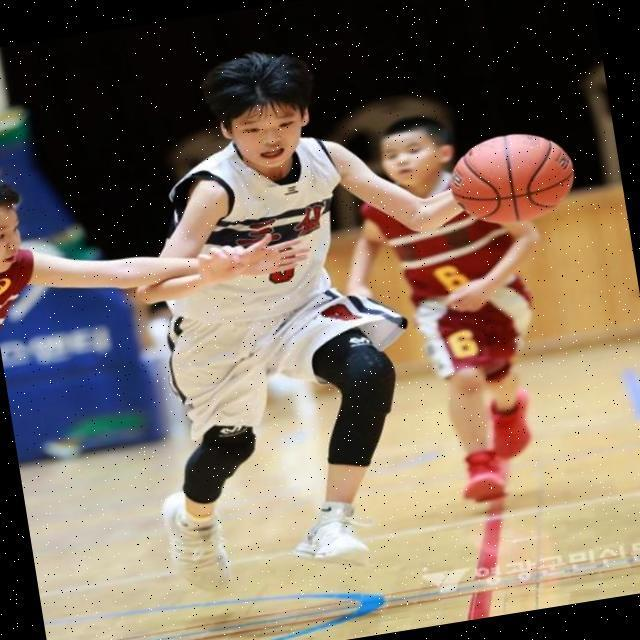ball: (446, 125, 581, 230)
